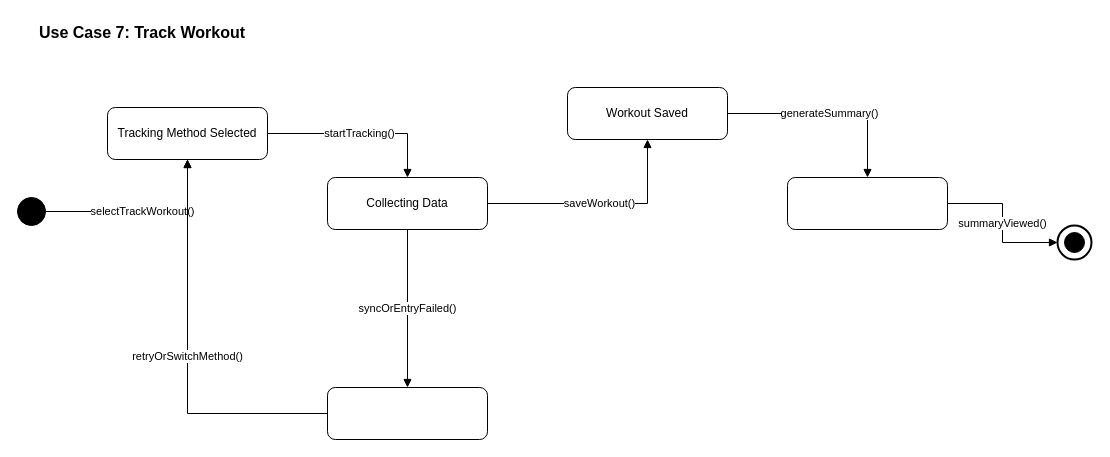
This 1110x457 diagram has some shape labels left out. The centre of each missing label's shape, as x and y in pixels:
"Summary Displayed" goes at point (867, 203).
"Tracking Error" goes at point (407, 413).
